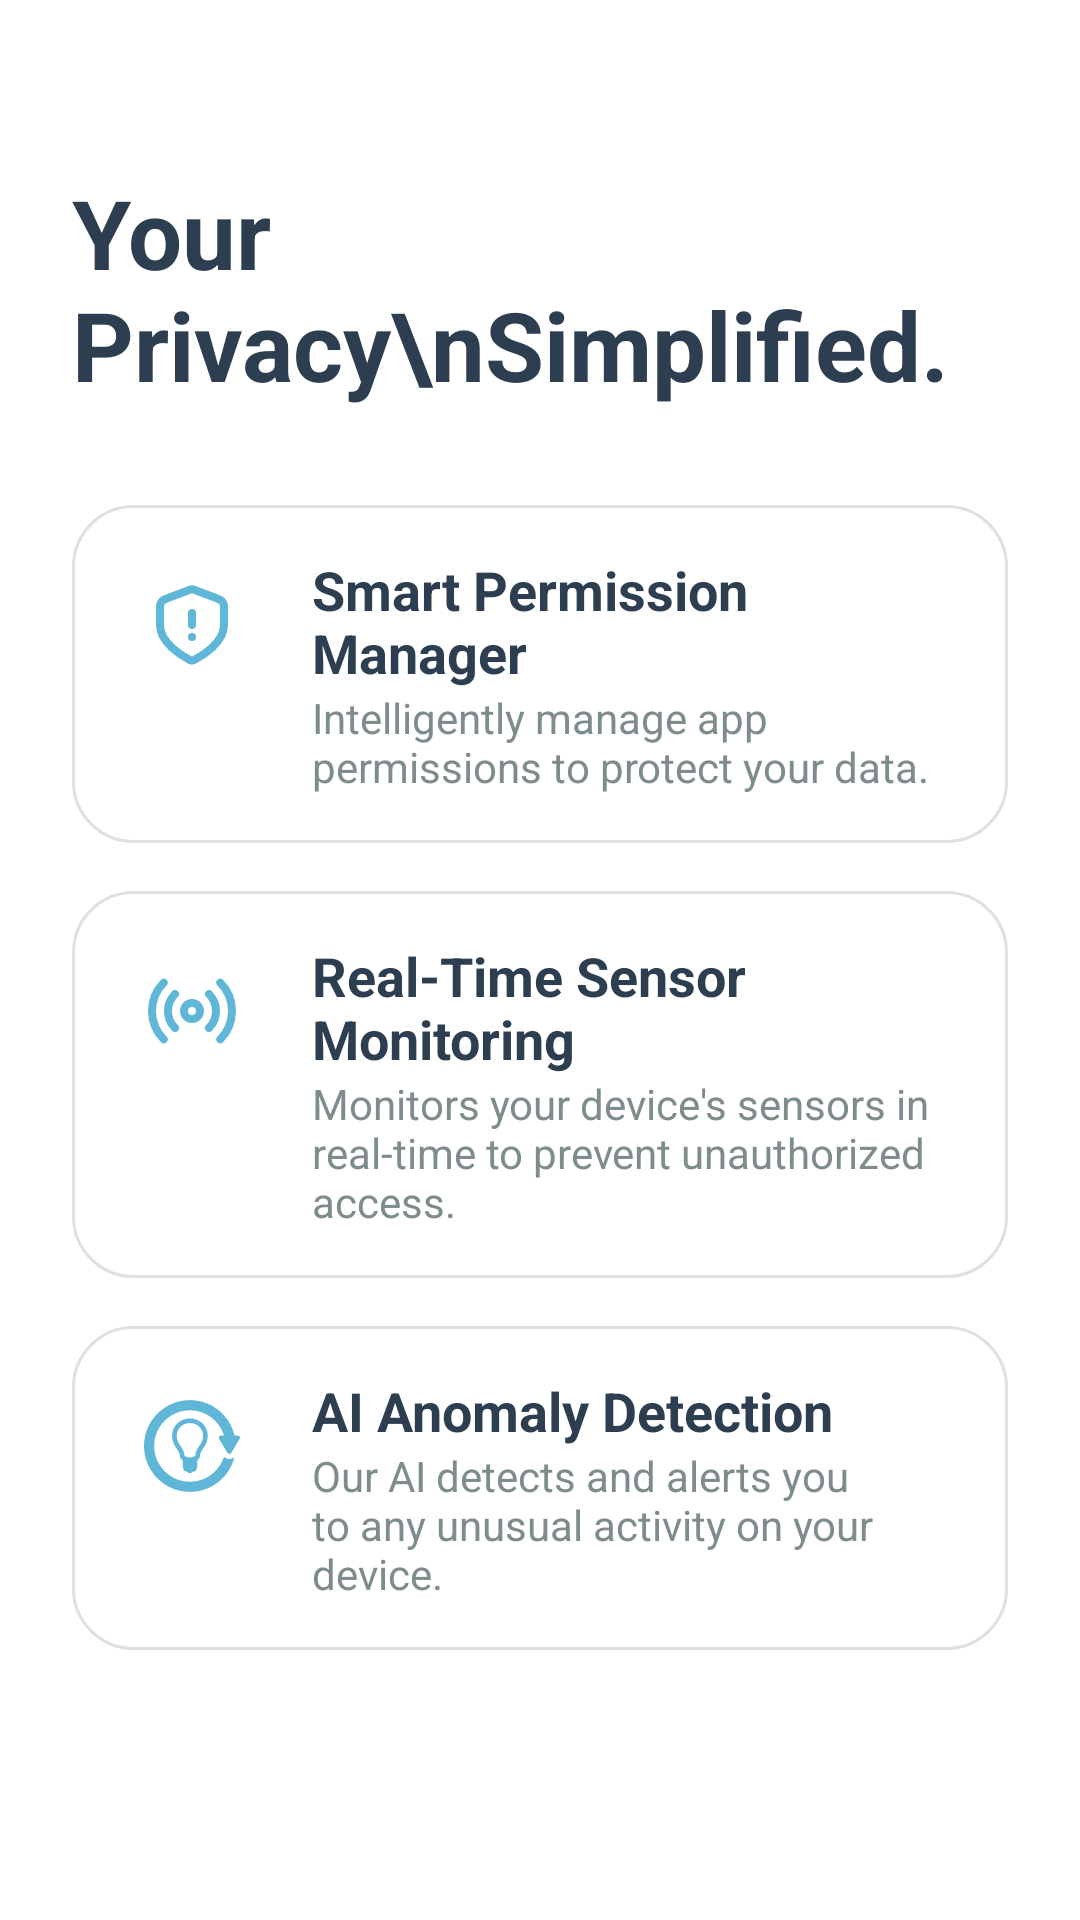

Named icons in this screenshot (1080×1920) and their bounding boxes, (x1, y1, x2, y2):
security: (156, 585, 228, 665)
